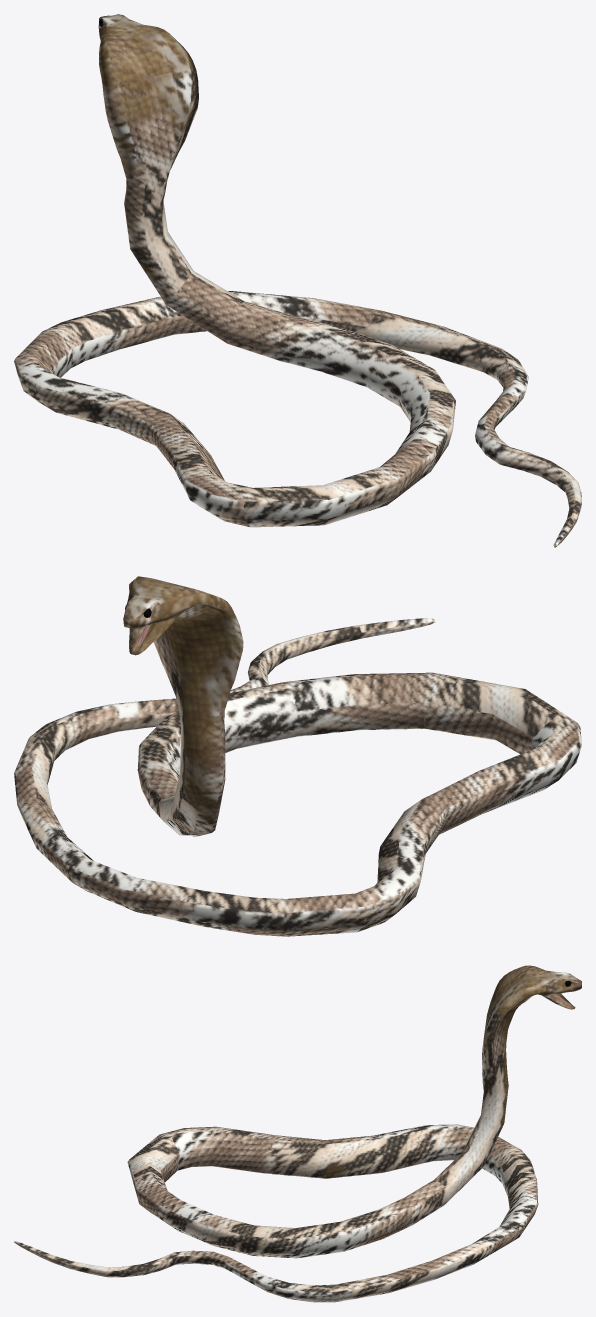
The model's file is Snake 1.fbx.
3 renders of one model, top to bottom at view 1: azimuth 30°, elevation 25°; view 2: azimuth 150°, elevation 25°; view 3: azimuth 270°, elevation 25°, orthographic. The views are drawn at different scales.
Parts seen in each view (by area): view 1: body; view 2: body; view 3: body.
Part boxes in pixels (box(x1,y1,x2,y2)): body: box(14, 14, 581, 547); body: box(14, 576, 581, 936); body: box(14, 965, 581, 1302).
Bounding box in the file's own units: 0.457 × 0.3256 × 0.7048.
Materials: 3 (1 with a texture image).
